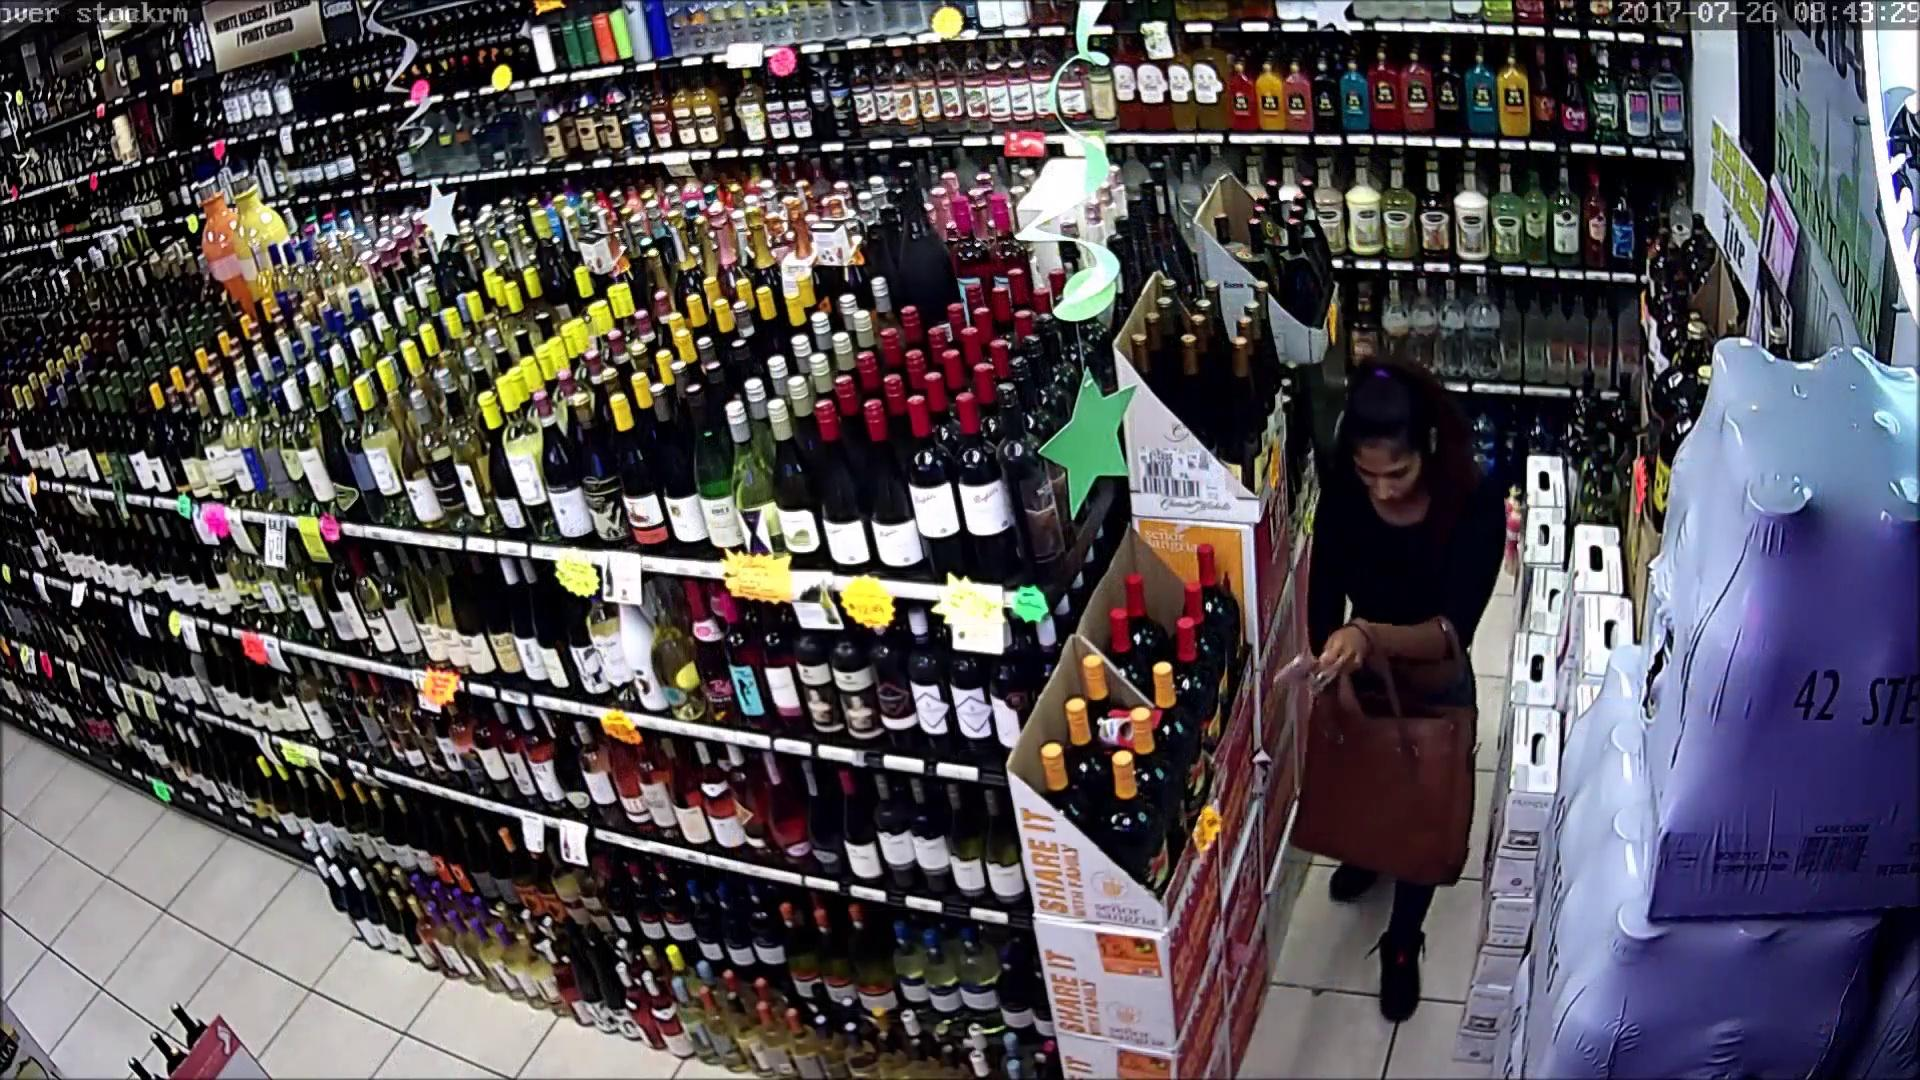Customer-Bagpack: (1295, 720, 1485, 865)
Regular: (1208, 328, 1572, 1029)
